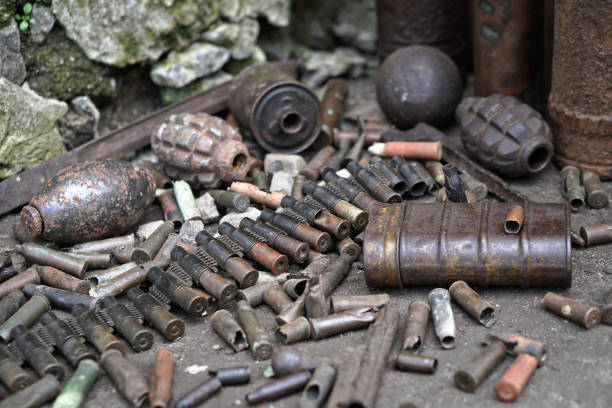e1: (457, 96, 557, 179), (146, 113, 252, 185)
